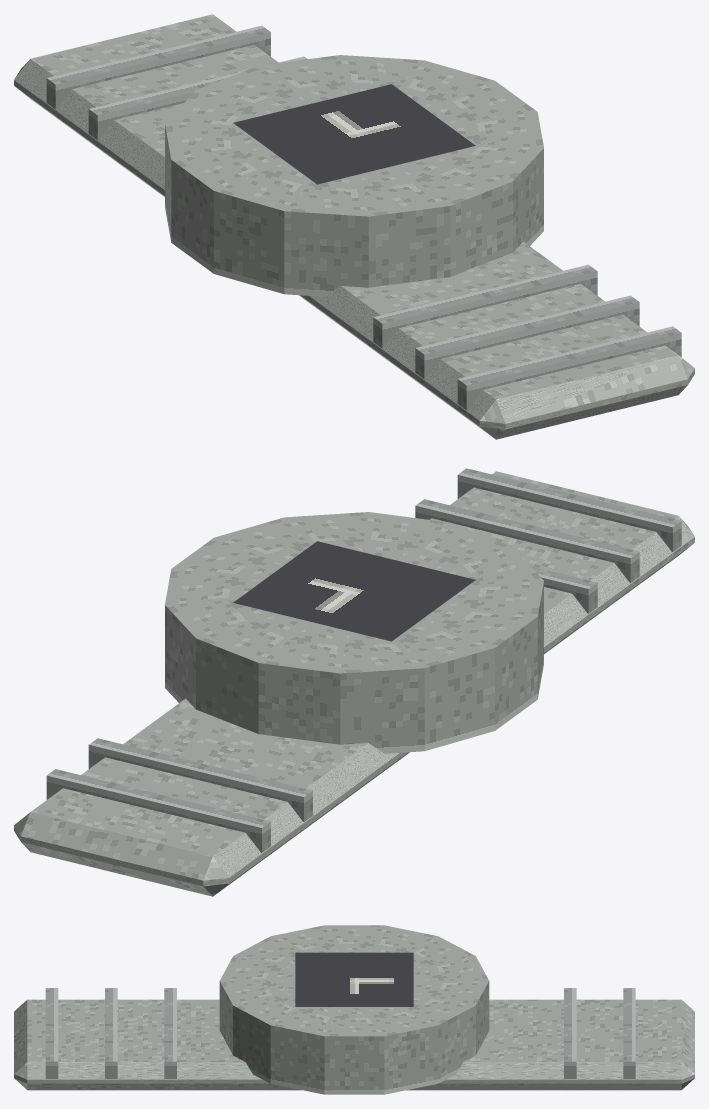
The model's file is silver_watch.glb.
The picture shows the model from 3 angles, top to bottom: view 1: azimuth 30°, elevation 25°; view 2: azimuth 150°, elevation 25°; view 3: azimuth 270°, elevation 25°; orthographic projection. The views are drawn at different scales.
Parts seen in each view (by area): view 1: block_watch bezel, block_wrist strap, block_bracelet segment (×5), block_watch face; view 2: block_watch bezel, block_wrist strap, block_bracelet segment (×5), block_watch face; view 3: block_wrist strap, block_watch bezel, block_watch face, block_bracelet segment (×5).
Boxes of the visible parts, <box> form: block_watch bezel: <box>165,55,543,296</box>; block_wrist strap: <box>14,14,694,439</box>; block_bracelet segment (×5): <box>46,25,681,409</box>; block_watch face: <box>233,84,475,184</box>; block_watch bezel: <box>165,512,543,753</box>; block_wrist strap: <box>14,471,694,896</box>; block_bracelet segment (×5): <box>46,468,681,852</box>; block_watch face: <box>233,541,475,641</box>; block_wrist strap: <box>14,999,694,1090</box>; block_watch bezel: <box>219,925,489,1094</box>; block_watch face: <box>295,952,413,1006</box>; block_bracelet segment (×5): <box>45,988,635,1078</box>.
Size of the model in its own units: 0.0501 by 0.0167 by 0.13.
1 material, 1 textured.
